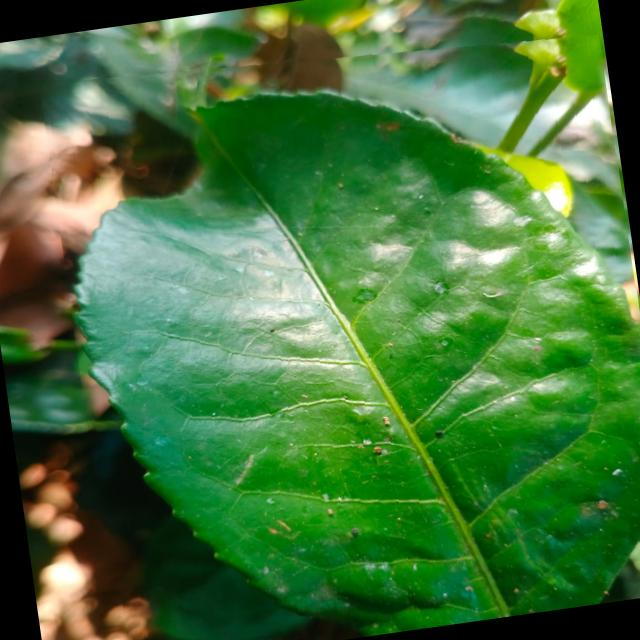Category D(7+ days, Not for Tea): (39, 4, 640, 640)
